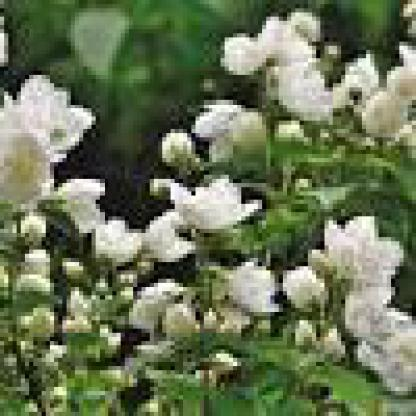Melati: (213, 5, 413, 130), (13, 84, 126, 288), (305, 209, 413, 380), (147, 147, 251, 234)
